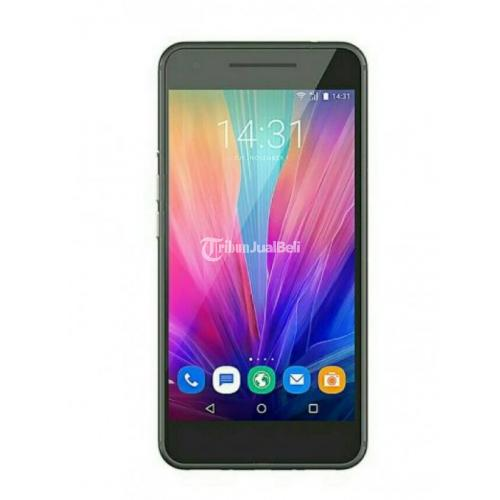Handphone: (152, 35, 373, 478)
